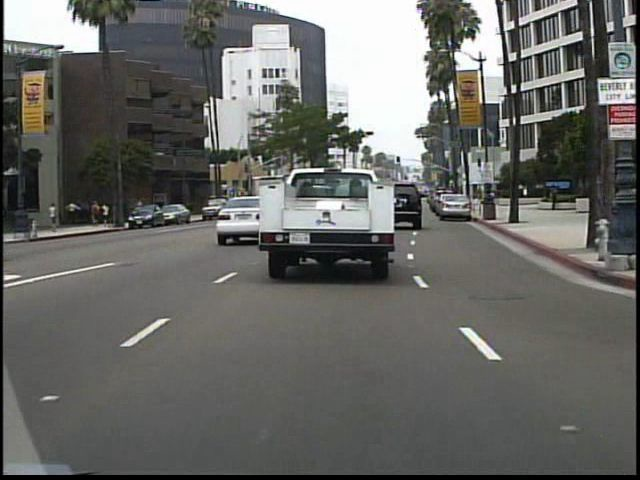person: (548, 183, 560, 214), (51, 201, 62, 234)
